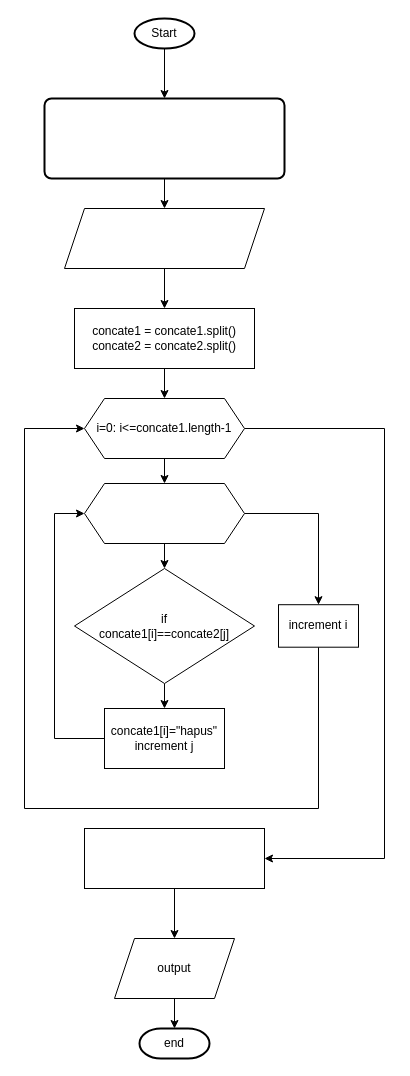
Some shapes in this 410 by 1076 pixel diagram are drawn without their labels. Here are the shapes that lost their labels. From the top down, the box of each, then its label:
(43, 97, 285, 179): initialization concate1,concate2,joinConcate,limit,i,j
(64, 208, 264, 268): input concate1,concate2
(84, 482, 244, 544): j=0: j<=concate1.length-1
(84, 828, 264, 888): joinConcate = concate1.concat(concate2).sort()
